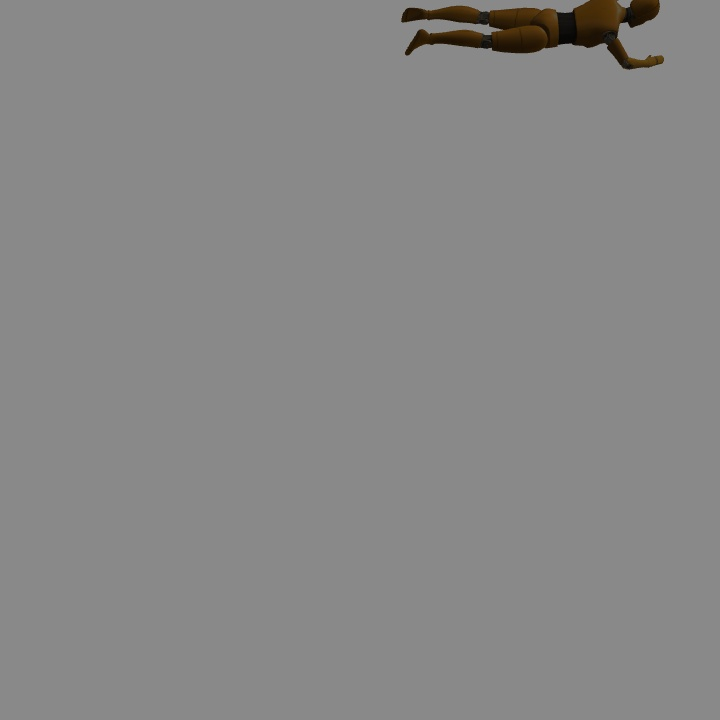victim: (401, 2, 668, 69)
